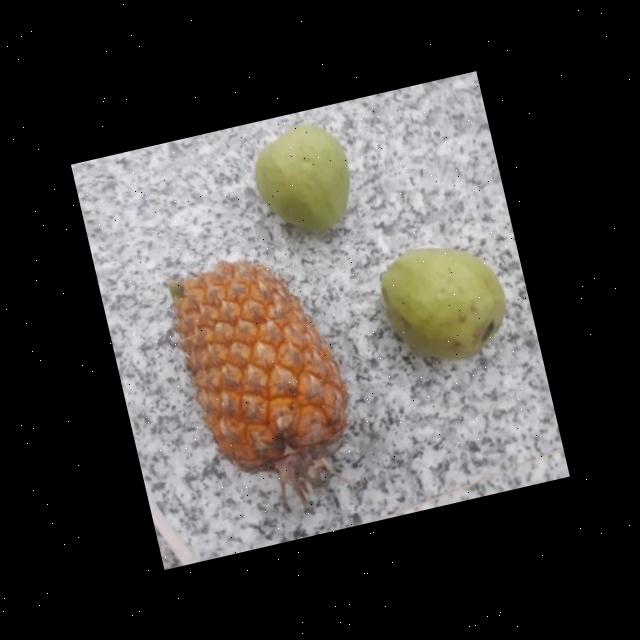guava: (367, 230, 515, 372), (241, 117, 362, 242)
pineapple: (156, 235, 357, 482)
